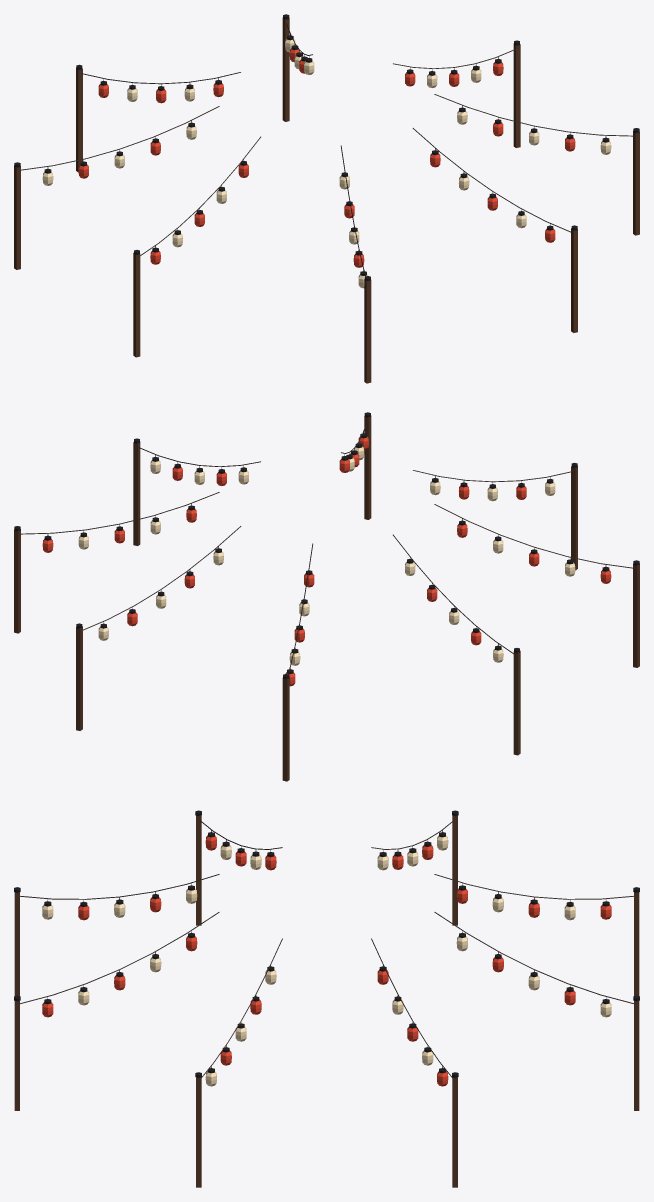
Rendered from yagura-spokes.glb.
The picture shows the model from 3 angles, top to bottom: view 1: azimuth 30°, elevation 25°; view 2: azimuth 150°, elevation 25°; view 3: azimuth 270°, elevation 25°; orthographic projection. The views are drawn at different scales.
Parts seen in each view (by area): view 1: YaguraSpokes_Poles, YaguraSpokes_LanternR, YaguraSpokes_LanternW, YaguraSpokes_Wire, YaguraSpokes_Caps; view 2: YaguraSpokes_Poles, YaguraSpokes_LanternW, YaguraSpokes_LanternR, YaguraSpokes_Wire, YaguraSpokes_Caps; view 3: YaguraSpokes_Poles, YaguraSpokes_LanternR, YaguraSpokes_LanternW, YaguraSpokes_Wire, YaguraSpokes_Caps.
Boxes of the visible parts, x1,y1,x2,y2 form: YaguraSpokes_Poles: [14, 17, 639, 383]; YaguraSpokes_LanternR: [78, 48, 575, 267]; YaguraSpokes_LanternW: [42, 38, 611, 288]; YaguraSpokes_Wire: [21, 23, 633, 276]; YaguraSpokes_Caps: [14, 14, 639, 281]; YaguraSpokes_Poles: [14, 415, 639, 781]; YaguraSpokes_LanternW: [78, 446, 575, 665]; YaguraSpokes_LanternR: [42, 436, 611, 686]; YaguraSpokes_Wire: [20, 421, 632, 674]; YaguraSpokes_Caps: [14, 412, 639, 679]; YaguraSpokes_Poles: [14, 815, 639, 1187]; YaguraSpokes_LanternR: [42, 835, 611, 1086]; YaguraSpokes_LanternW: [42, 835, 611, 1086]; YaguraSpokes_Wire: [20, 820, 633, 1077]; YaguraSpokes_Caps: [14, 810, 639, 1077].
Bounding box in the file's own units: 95.08 × 27.24 × 94.92.
